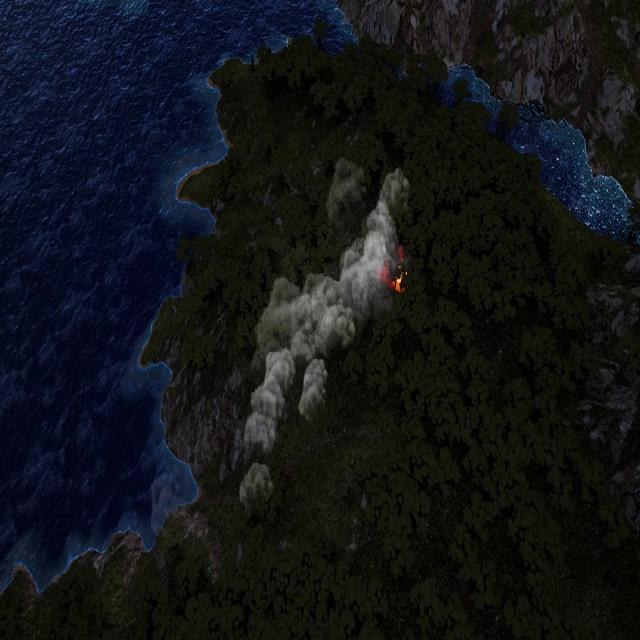fire: (380, 261, 406, 293)
smoke: (246, 163, 417, 457), (238, 462, 273, 505)
